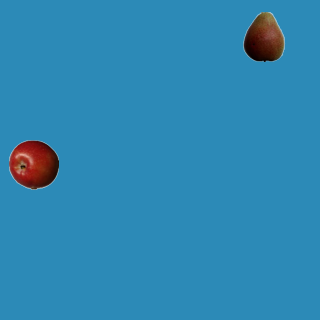Apple Braeburn: (8, 139, 58, 189)
Pear Forelle: (238, 11, 288, 61)
